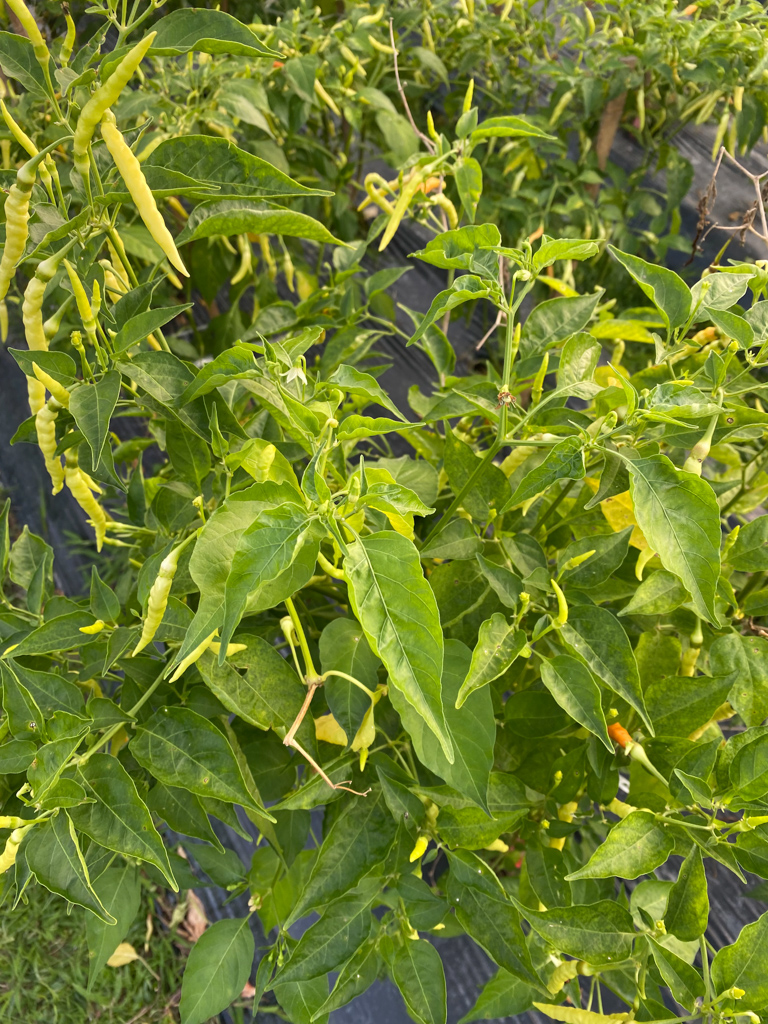frog-eye leafspot: (22, 716, 37, 733), (197, 771, 211, 786), (723, 415, 738, 427)
